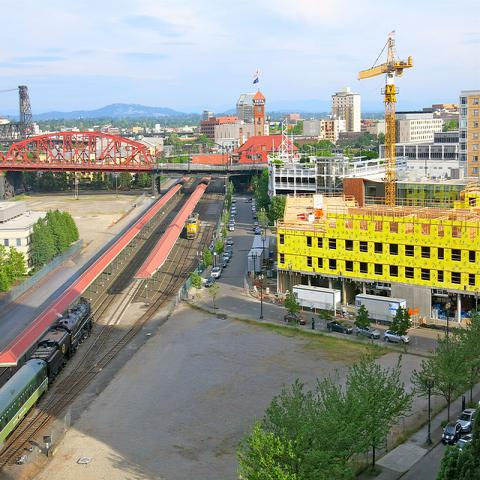car: (223, 246, 411, 344), (442, 419, 462, 446), (456, 408, 476, 432), (355, 326, 380, 340), (454, 434, 473, 452), (210, 266, 222, 279), (205, 274, 215, 288), (225, 238, 234, 246), (228, 223, 234, 232), (222, 260, 226, 268), (228, 220, 234, 224), (232, 197, 236, 203), (245, 198, 249, 202), (231, 210, 236, 213)
truck: (292, 283, 351, 320), (356, 294, 406, 327), (248, 236, 272, 272)
